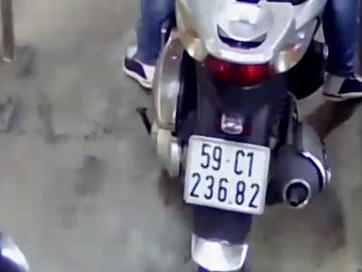num_plate: (183, 133, 272, 216)
